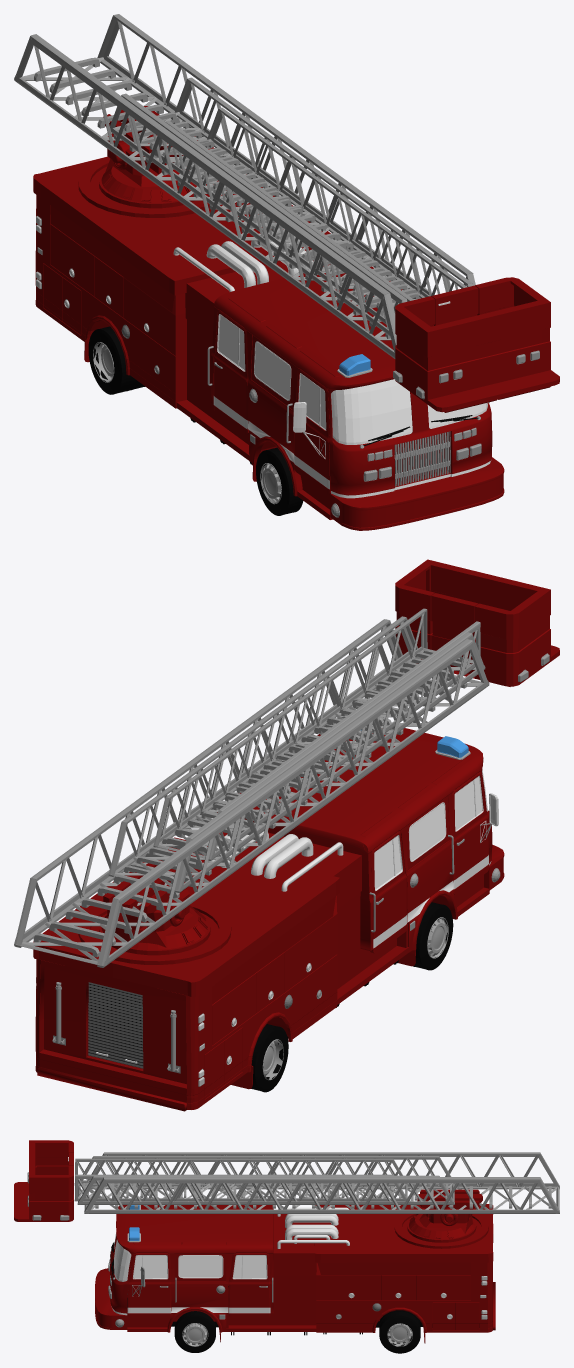
The model's file is FinalTruck.fbx.
3 views of the same model, one above another, from view 1: azimuth 30°, elevation 25°; view 2: azimuth 150°, elevation 25°; view 3: azimuth 270°, elevation 25° (orthographic). The views are drawn at different scales.
Parts seen in each view (by area): view 1: Body_front.002, Body_back.001, Ladder_base.001, platform.001, Ladder_extension2.001, Ladder_extension1.001, Base and platform.001, Glass.001, Doors and skirting.001, Something_idk.001, Door_right.001, Tyres.001 (+2 smaller); view 2: Body_back.001, Ladder_base.001, Body_front.002, Ladder_extension2.001, platform.001, Ladder_extension1.001, Something_idk.001, Body_back.003, Door_right.001, Doors and skirting.001, Tyres.001, Base and platform.001 (+3 smaller); view 3: Body_back.001, Body_front.002, Ladder_base.001, Ladder_extension2.001, Ladder_extension1.001, platform.001, Something_idk.001, Base and platform.001, Doors_left.001, Doors and skirting.001, Tyres.001, Glass.001 (+3 smaller).
Boxes of the visible parts, <box> form: Body_front.002: <box>176,260,492,519</box>; Body_back.001: <box>33,136,330,408</box>; Ladder_base.001: <box>14,14,475,358</box>; platform.001: <box>393,277,559,412</box>; Ladder_extension2.001: <box>124,107,467,324</box>; Ladder_extension1.001: <box>110,77,472,336</box>; Base and platform.001: <box>173,228,504,530</box>; Glass.001: <box>218,315,487,444</box>; Doors and skirting.001: <box>84,310,480,486</box>; Something_idk.001: <box>78,106,226,217</box>; Door_right.001: <box>293,368,331,494</box>; Tyres.001: <box>88,326,303,515</box>; Body_back.001: <box>33,837,339,1111</box>; Ladder_base.001: <box>14,619,489,967</box>; Body_front.002: <box>217,728,492,1004</box>; Ladder_extension2.001: <box>124,608,480,883</box>; platform.001: <box>395,559,559,686</box>; Ladder_extension1.001: <box>108,616,485,892</box>; Something_idk.001: <box>78,863,231,964</box>; Body_back.003: <box>88,982,143,1068</box>; Door_right.001: <box>452,771,498,894</box>; Doors and skirting.001: <box>231,831,454,1089</box>; Tyres.001: <box>251,902,453,1092</box>; Base and platform.001: <box>208,828,504,891</box>; Body_back.001: <box>314,1204,495,1332</box>; Body_front.002: <box>110,1205,316,1332</box>; Ladder_base.001: <box>84,1152,559,1213</box>; Ladder_extension2.001: <box>74,1158,448,1201</box>; Ladder_extension1.001: <box>77,1156,454,1204</box>; platform.001: <box>14,1140,73,1221</box>; Something_idk.001: <box>394,1189,488,1248</box>; Base and platform.001: <box>95,1207,349,1329</box>; Doors_left.001: <box>127,1253,171,1317</box>; Doors and skirting.001: <box>112,1242,425,1343</box>; Tyres.001: <box>174,1310,420,1353</box>; Glass.001: <box>114,1232,266,1281</box>.
Bounding box in the file's own units: 281 × 358 × 1046.
Materials: 19 (1 with a texture image).
